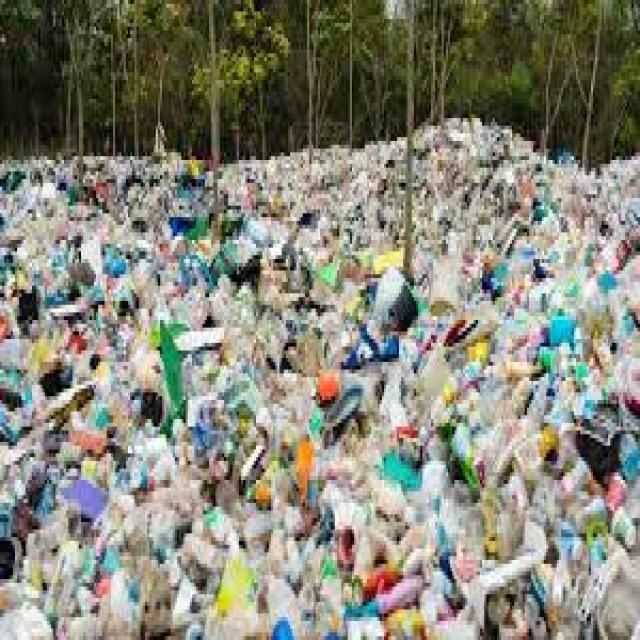heap: (21, 184, 631, 626)
